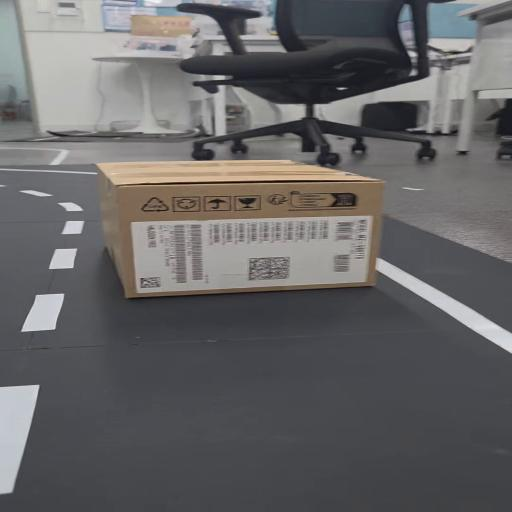Box: (85, 156, 390, 302)
